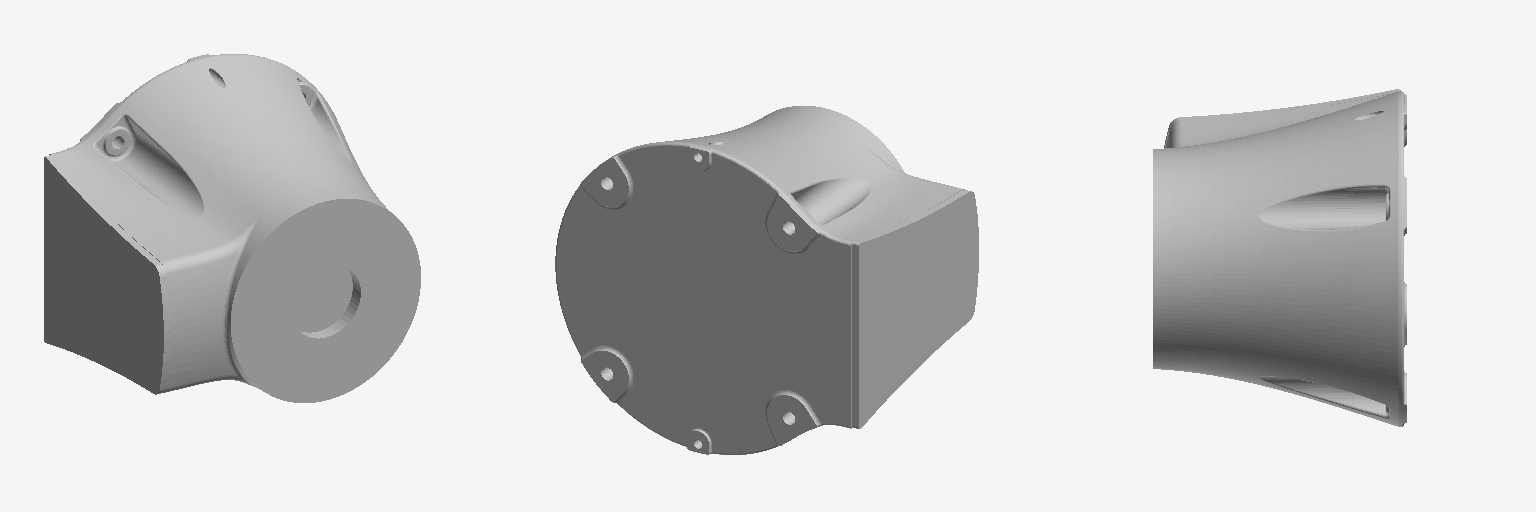
The picture shows the model from 3 angles: view 1: azimuth 30°, elevation 25°; view 2: azimuth 150°, elevation 25°; view 3: azimuth 270°, elevation 25°; orthographic projection.
Parts seen in each view (by area): view 1: <STL_BINARY>; view 2: <STL_BINARY>; view 3: <STL_BINARY>.
Boxes of the visible parts, x1,y1,x2,y2 form: <STL_BINARY>: [44, 54, 420, 402]; <STL_BINARY>: [555, 106, 978, 454]; <STL_BINARY>: [1153, 89, 1406, 426].
Bounding box in the file's own units: 217 × 208 × 158.